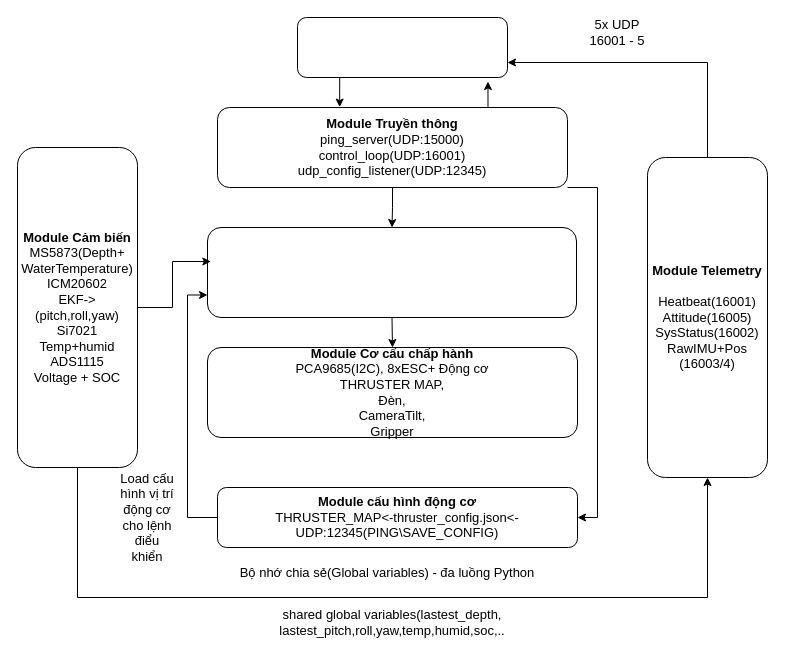
This 785x655 diagram has some shape labels left out. The box of each missing label's shape, as (x1, y1, x2, y2) in pixels:
GCS(Ground Control) QGroundControl/UserControl: (296, 16, 508, 78)
Module điều khiển Manual(Mixing) PID Heading/Depth hold, HoldVision(AI): (206, 226, 576, 318)
